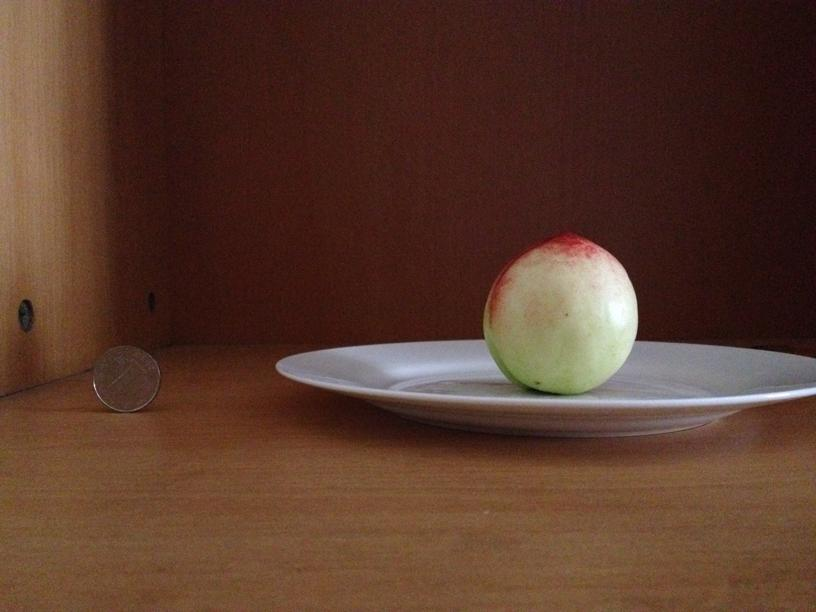coin: (92, 344, 160, 411)
peach: (484, 235, 640, 392)
